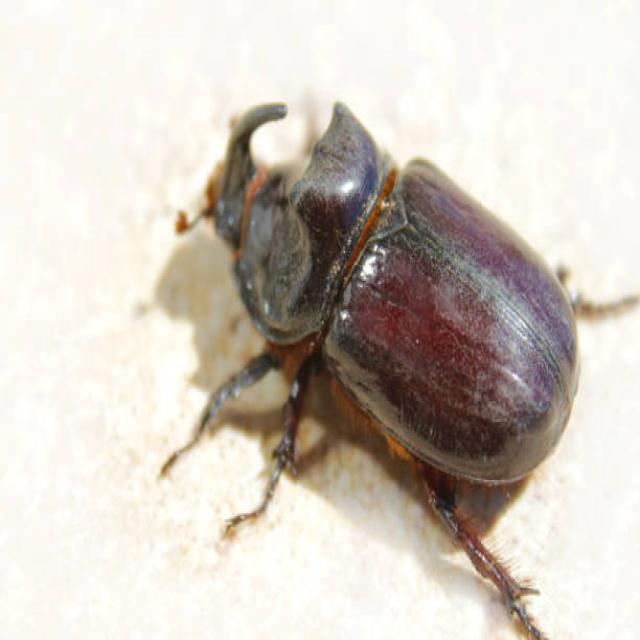Rhino-beetle: (162, 98, 612, 580)
